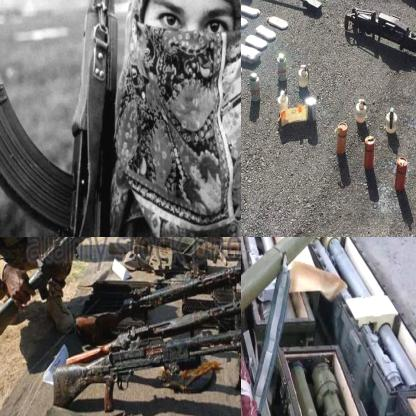rifle: (0, 0, 129, 236), (51, 310, 240, 415), (241, 237, 337, 415), (69, 278, 240, 366), (76, 245, 240, 336), (0, 237, 137, 337), (342, 6, 415, 97)
